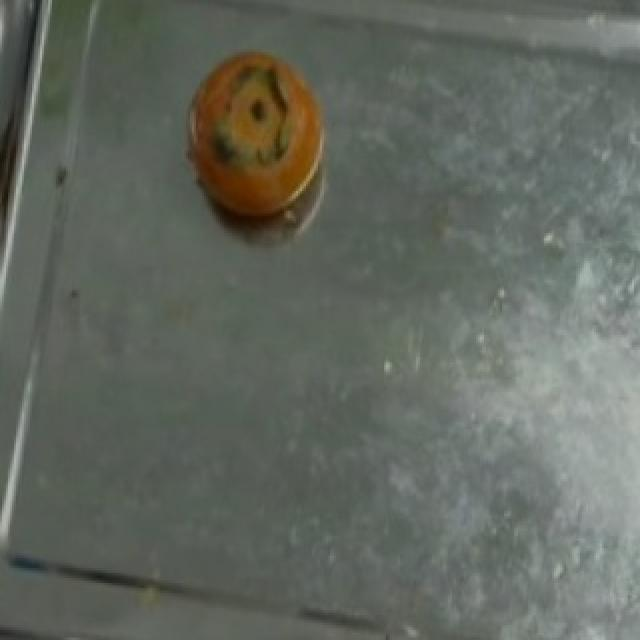Fruit: (166, 34, 346, 236)
